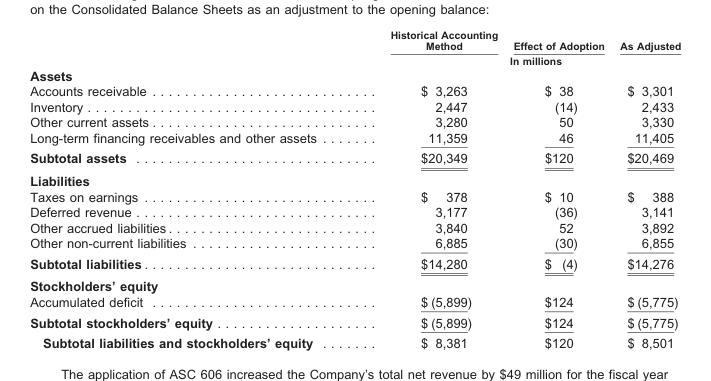table: (29, 28, 680, 349)
table column: (29, 28, 352, 349), (352, 28, 504, 349), (504, 28, 611, 349), (611, 28, 680, 349)
table column header: (29, 28, 680, 67)
table projected row header: (29, 169, 680, 188), (29, 274, 680, 293), (29, 67, 680, 82)
table row: (29, 28, 680, 52), (29, 147, 680, 169), (29, 252, 680, 274), (29, 311, 680, 332), (29, 169, 680, 188), (29, 274, 680, 293), (29, 129, 680, 147), (29, 234, 680, 252), (29, 293, 680, 311), (29, 332, 680, 349), (29, 82, 680, 98), (29, 113, 680, 129), (29, 203, 680, 219), (29, 52, 680, 67), (29, 67, 680, 82), (29, 98, 680, 113), (29, 188, 680, 203), (29, 219, 680, 234)
table spanning cell: (352, 52, 680, 67)
